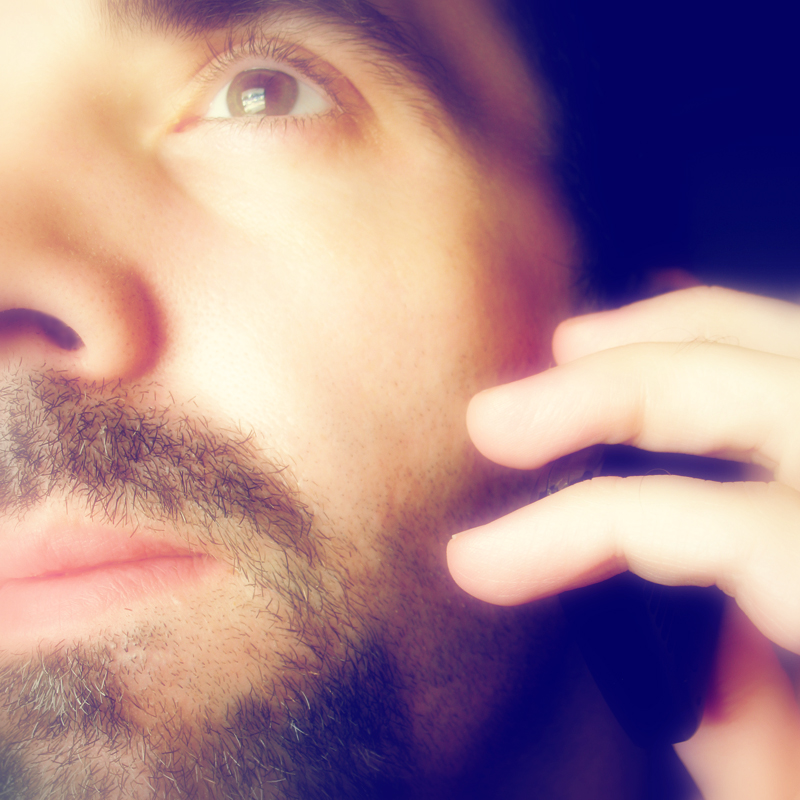phone: (529, 298, 763, 719)
